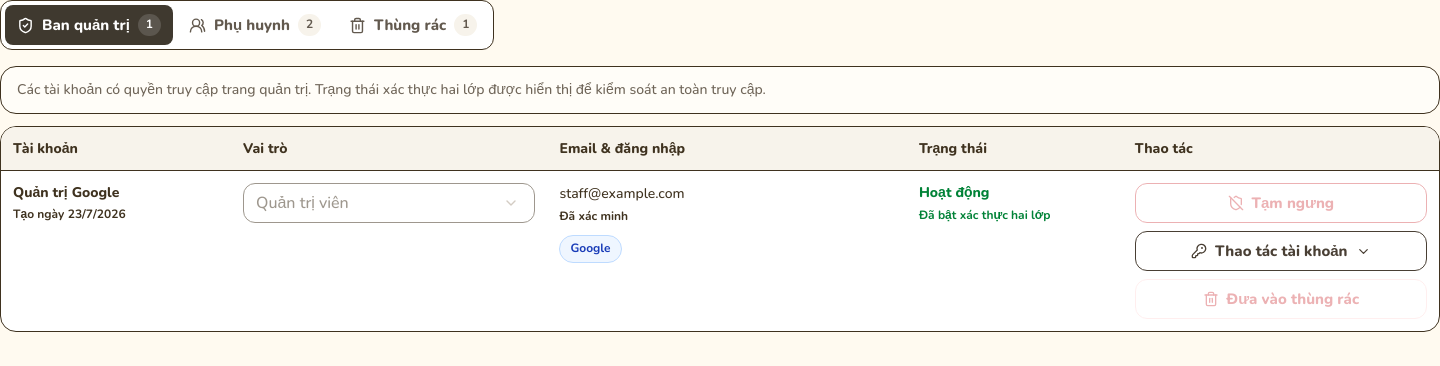
Test case: MemberManager › shows trashed parent accounts separately with restore and permanent-delete actions
The width and height of the screenshot is (1440, 366).
Click the tab with aria-label "Thùng rác, 1 tài khoản" at (413, 25), box [337,5,489,45]
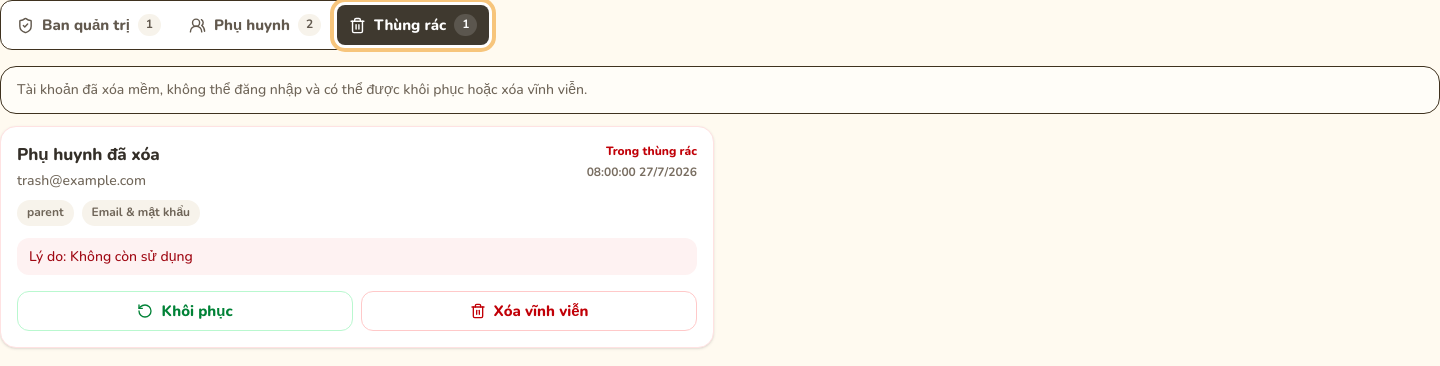
Expected: the text "trash@example.com" is shown, [17,172,146,190]
Expected: the text "Lý do: Không còn sử dụng" is shown, [17,238,697,275]
Expected: the button "Khôi phục" is enabled, [17,291,353,331]
